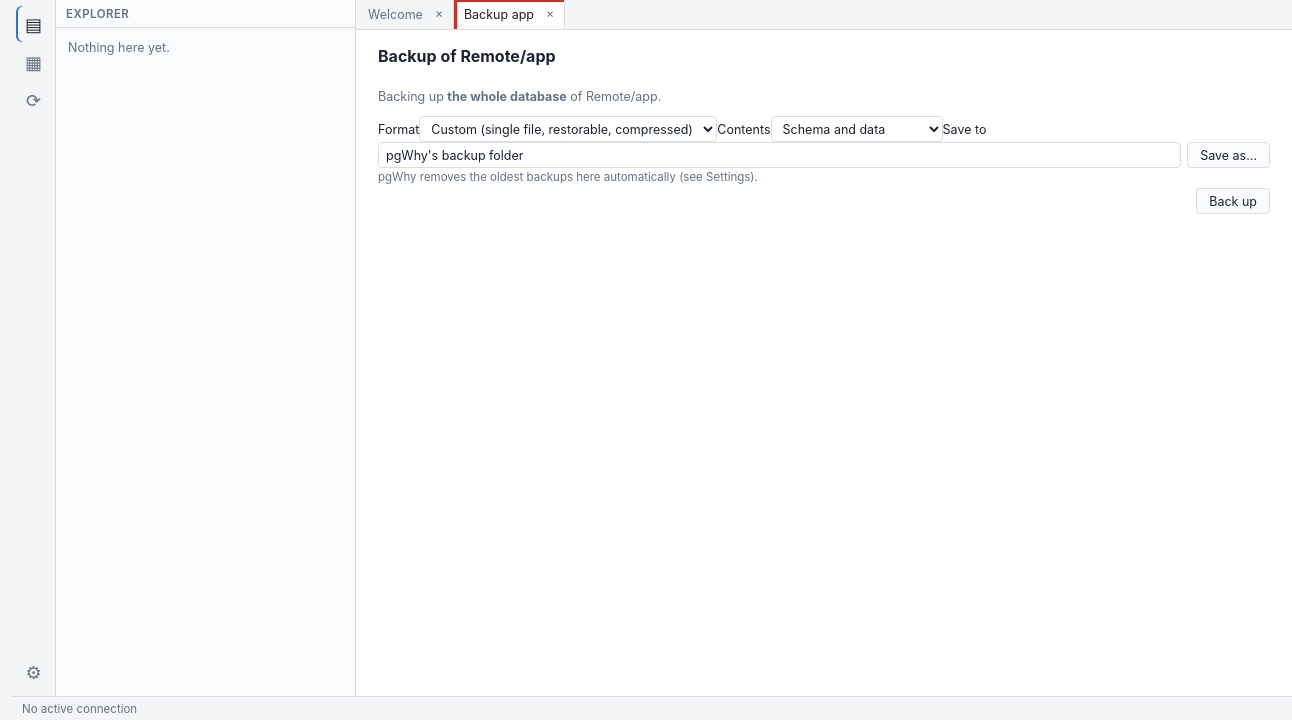
save as › offers the chosen file's folder when it finishes
Expected: the text "Backing up the whole database of Remote/app." is shown, [378, 88, 661, 104]
Click the button "Save as…" at (1229, 155), box [1187, 142, 1270, 168]
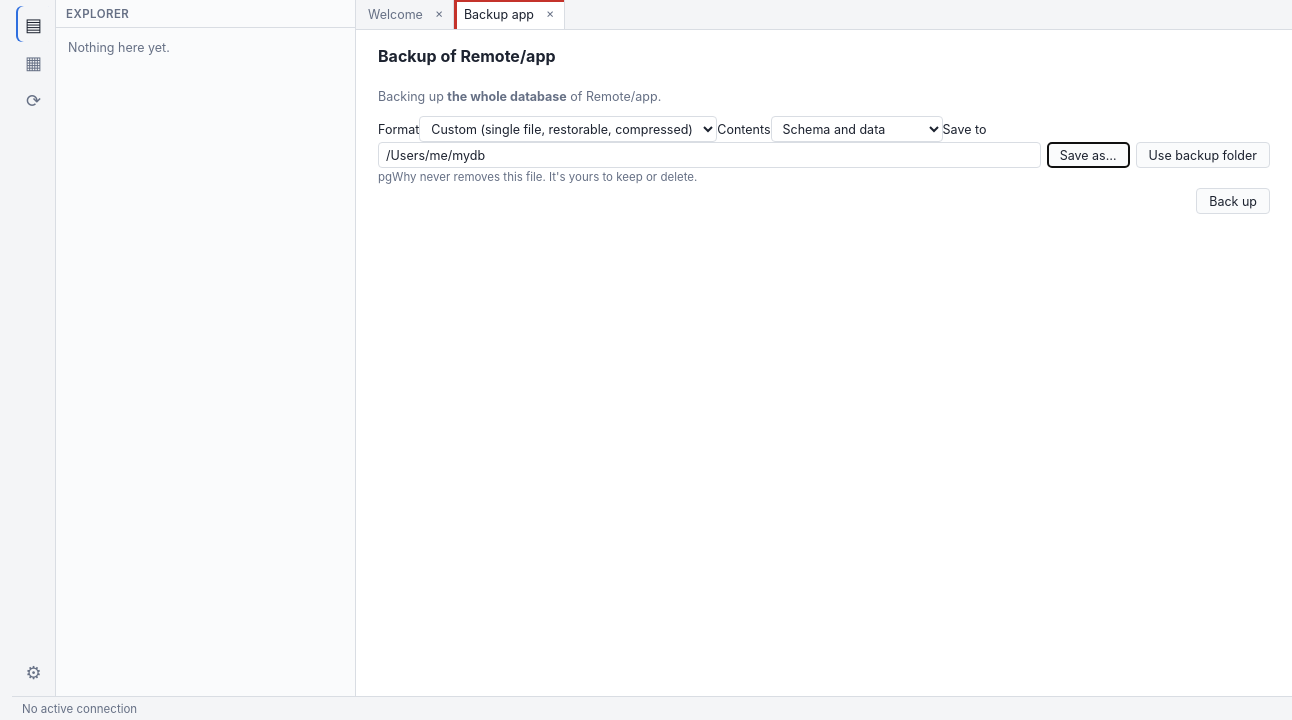
Result: the field showing "/Users/me/mydb" is shown at [378, 142, 1041, 168]
Click the button "Back up" at (1233, 201), box [1196, 188, 1270, 214]
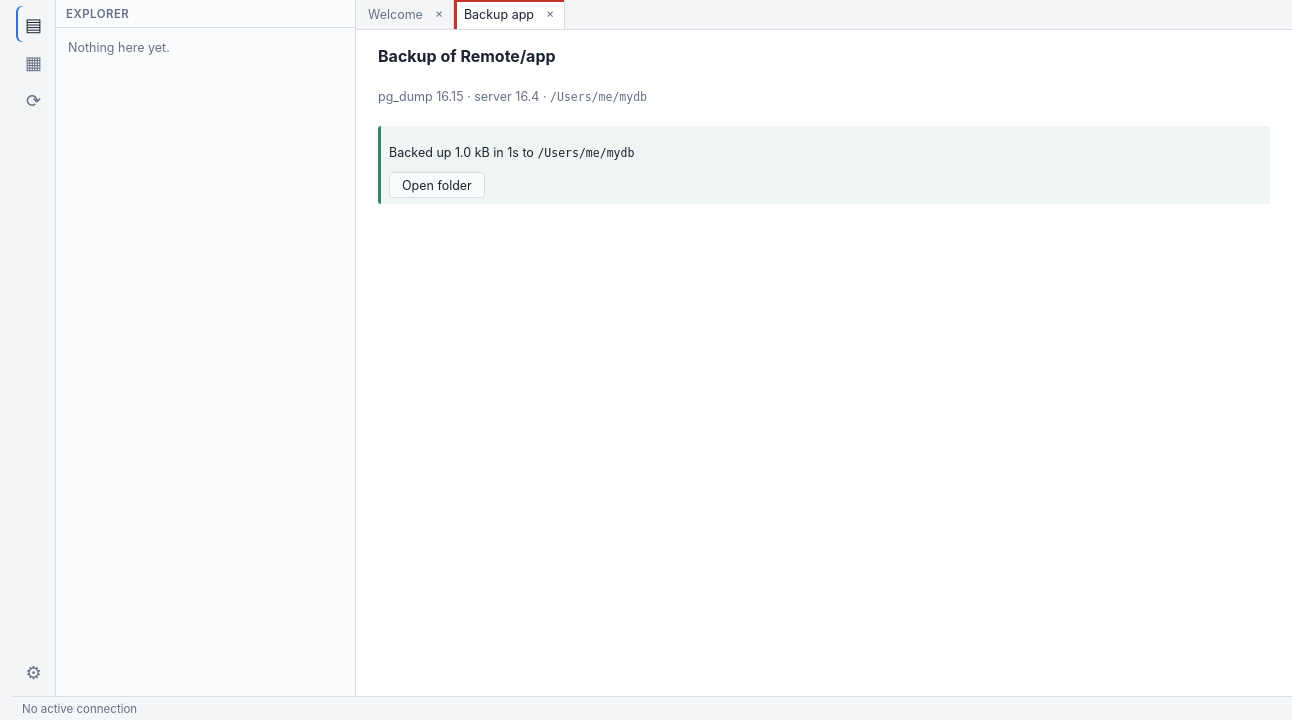
Result: the message shows "/Users/me/mydb" at [537, 146, 634, 160]
Result: the button "Open folder" is shown at [389, 172, 485, 198]
